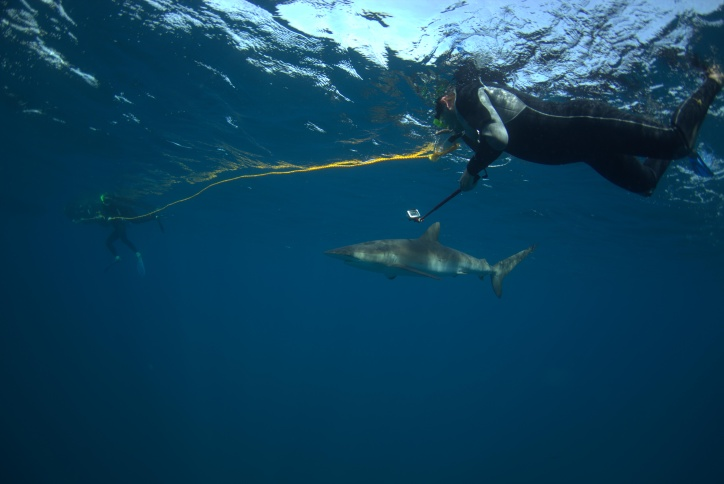Sedoso: (285, 216, 547, 312)
